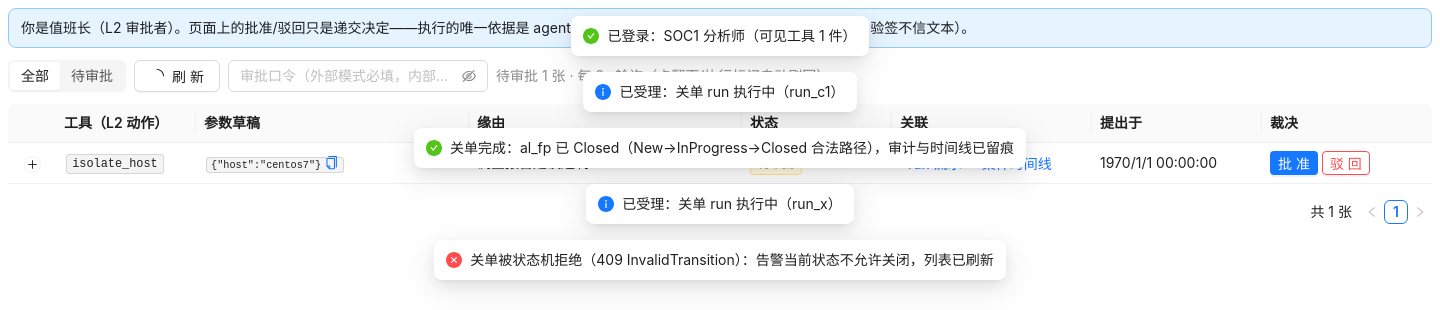
ApprovalsPage › pending 列表可见；批准 → POST approve 带 approver，卡翻成已批准
Expected: the text "isolate_host" is shown, [66,154,164,174]
# antd v5 会对两字按钮文案自动插空格（批准 → "批 准"），按渲染后的文本查
Click the button "批 准": x=1294, y=163 [1270,151,1318,175]
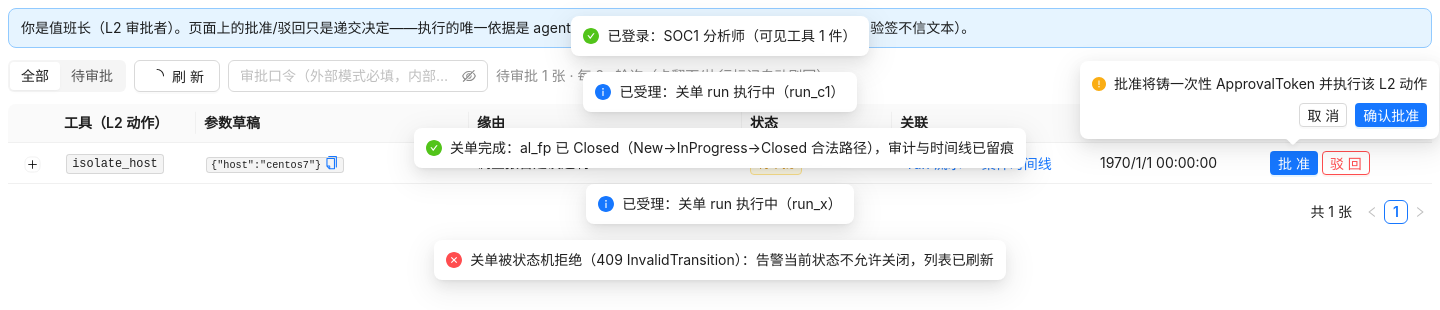
Click the button "确认批准": x=1391, y=115 [1355,103,1427,127]
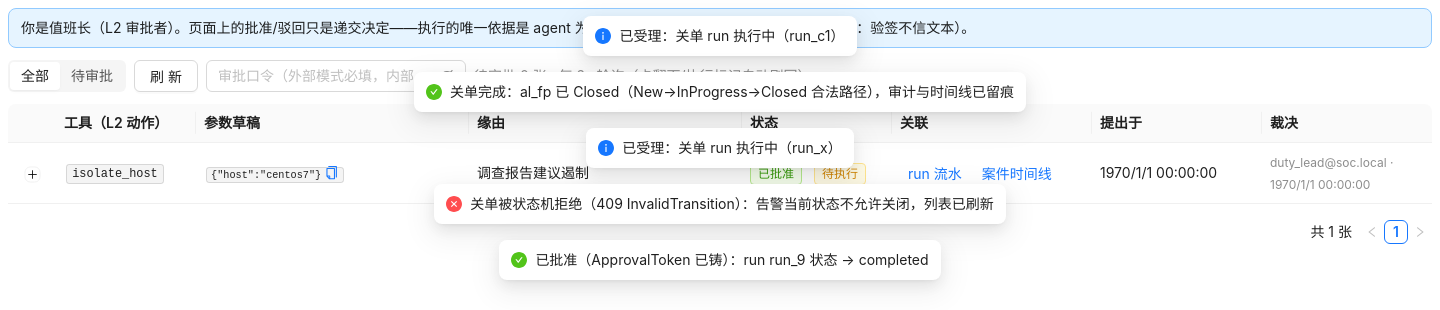
Now the text "已批准" is shown, box [750,162,802,184]
